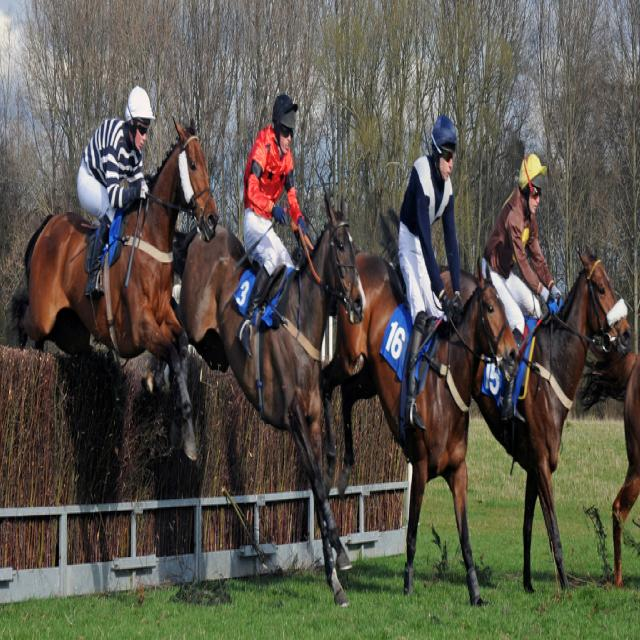Horse: (5, 116, 640, 608)
